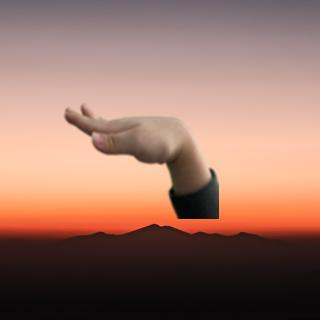Wait: (58, 94, 200, 180)
